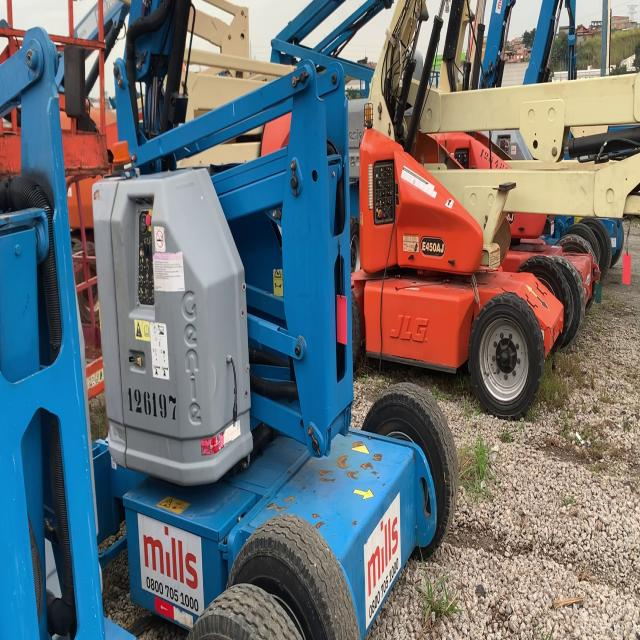Adesivos: (136, 511, 204, 617), (363, 490, 403, 632)
